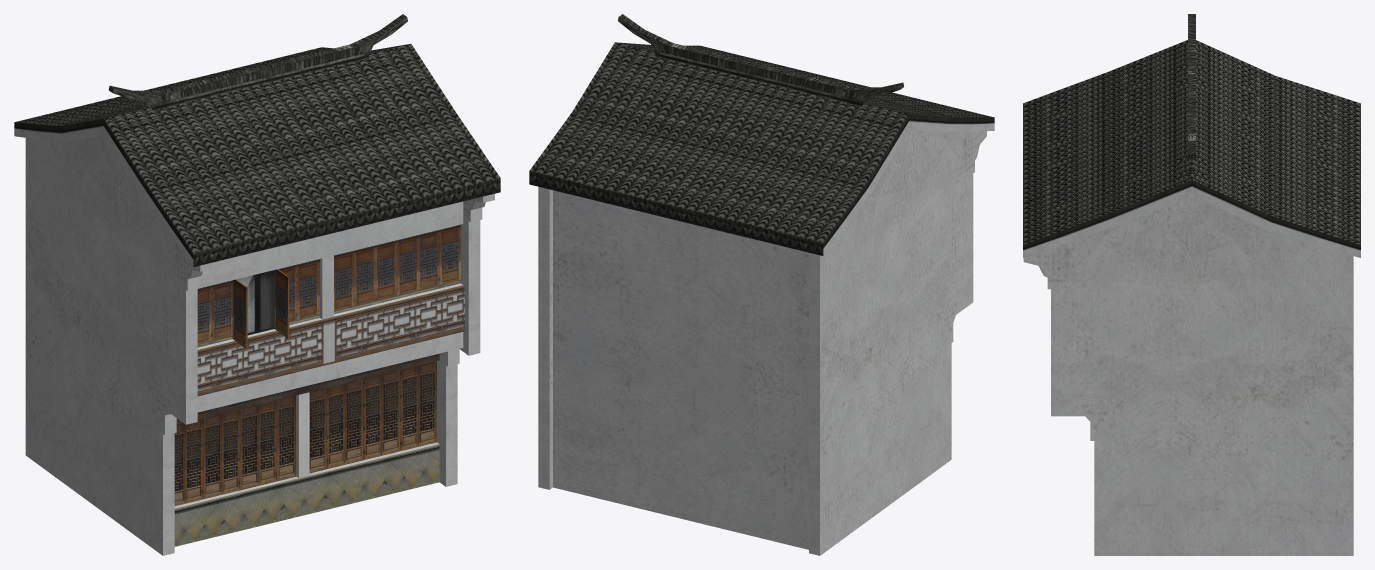
The model's file is Building_MinJu01.FBX.
3 views of the same model, side by side, from view 1: azimuth 30°, elevation 25°; view 2: azimuth 150°, elevation 25°; view 3: azimuth 270°, elevation 25° (orthographic). The views are drawn at different scales.
Visible parts, largest first — view 1: Building_MinJu; view 2: Building_MinJu; view 3: Building_MinJu.
Part boxes in pixels (x1=…): Building_MinJu: x1=14, y1=14, x2=500, y2=555; Building_MinJu: x1=529, y1=14, x2=994, y2=555; Building_MinJu: x1=1023, y1=14, x2=1360, y2=555.
Bounding box in the file's own units: 806 × 813 × 1078.
